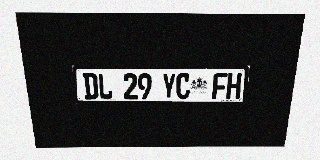2: (123, 73, 138, 99)
9: (137, 73, 152, 99)
C: (176, 73, 190, 99)
D: (83, 73, 99, 99)
F: (212, 73, 227, 99)
H: (226, 73, 242, 99)
L: (97, 73, 113, 99)
Y: (162, 73, 176, 99)
